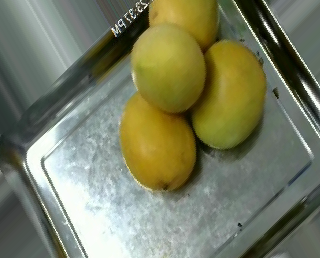Mango: (191, 39, 265, 149), (121, 91, 198, 191), (131, 23, 206, 113), (148, 0, 219, 51)
